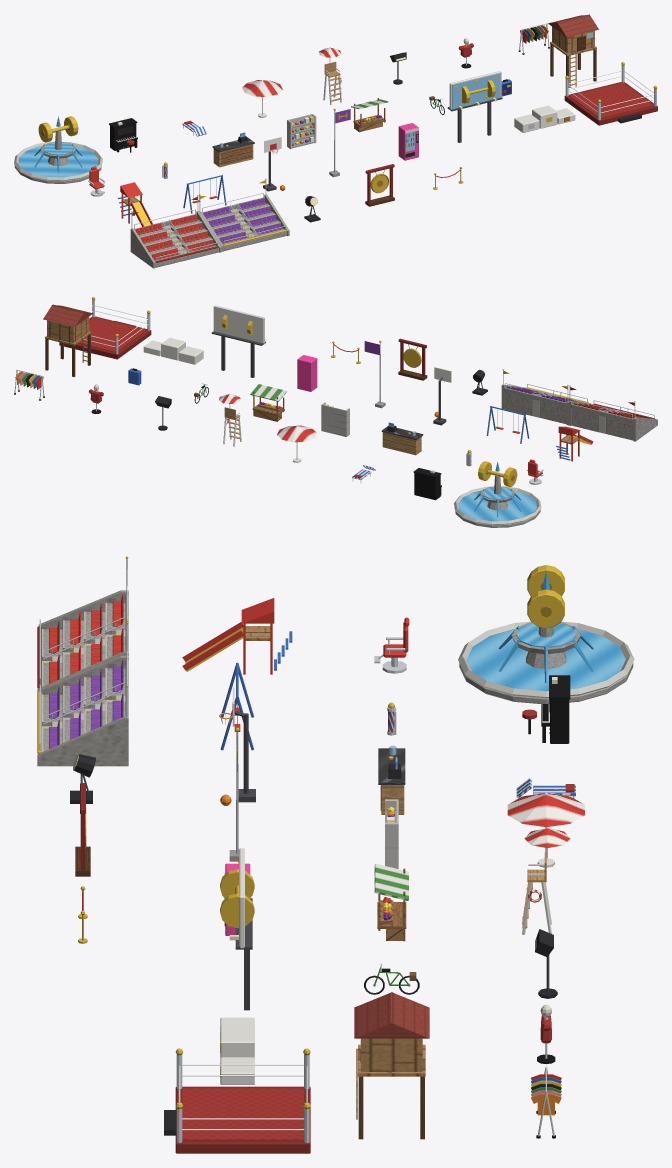
The model's file is Props_Town.fbx.
The picture shows the model from 3 angles, top to bottom: view 1: azimuth 30°, elevation 25°; view 2: azimuth 150°, elevation 25°; view 3: azimuth 270°, elevation 25°; orthographic projection. The views are drawn at different scales.
Parts seen in each view (by area): view 1: Bleachers, Fountain, Bleachers_King, BossStage, Treehouse, Billboard, Podium, ShopCounter, GroceryShelf, Gong, PlaygroundSlide, UprightPiano (+7 smaller); view 2: Fountain, Bleachers, BossStage, Bleachers_King, Treehouse, Billboard, Podium, ShopCounter, FruitStand, GroceryShelf, Gong, UprightPiano (+8 smaller); view 3: Fountain, BossStage, Bleachers_King, Treehouse, Bleachers, Billboard, PlaygroundSlide, Podium, BeachUmbrella, FruitStand, UprightPiano, LifeguardChair (+6 smaller).
Boxes of the visible parts, x1,y1,x2,y2 form: Bleachers: (130,195,221,268); Fountain: (14,116,102,183); Bleachers_King: (199,178,289,251); BossStage: (564,62,657,125); Treehouse: (548,14,598,87); Billboard: (447,71,502,142); Podium: (514,105,575,132); ShopCounter: (212,132,254,167); GroceryShelf: (287,114,316,149); Gong: (365,164,394,206); PlaygroundSlide: (118,182,152,226); UprightPiano: (109,118,137,152); Fountain: (454,461,541,527); Bleachers: (568,385,657,441); BossStage: (59,297,151,359); Bleachers_King: (501,369,590,425); Treehouse: (43,304,92,376); Billboard: (211,305,265,377); Podium: (143,337,203,364); ShopCounter: (381,422,423,455); FruitStand: (250,384,286,421); GroceryShelf: (321,402,349,436); Gong: (398,338,427,380); UprightPiano: (413,468,441,500); Fountain: (458,565,634,704); BossStage: (164,1048,310,1153); Bleachers_King: (37,621,128,766); Treehouse: (354,992,429,1139); Bleachers: (37,556,128,692); Billboard: (220,848,254,1010); PlaygroundSlide: (182,598,292,674); Podium: (220,1017,254,1084); BeachUmbrella: (507,792,584,867); FruitStand: (374,863,408,941); UprightPiano: (522,675,570,743); LifeguardChair: (522,828,570,934).
Bounding box in the file's own units: 128 × 14.95 × 61.87.
Materials: 1 (1 with a texture image).
